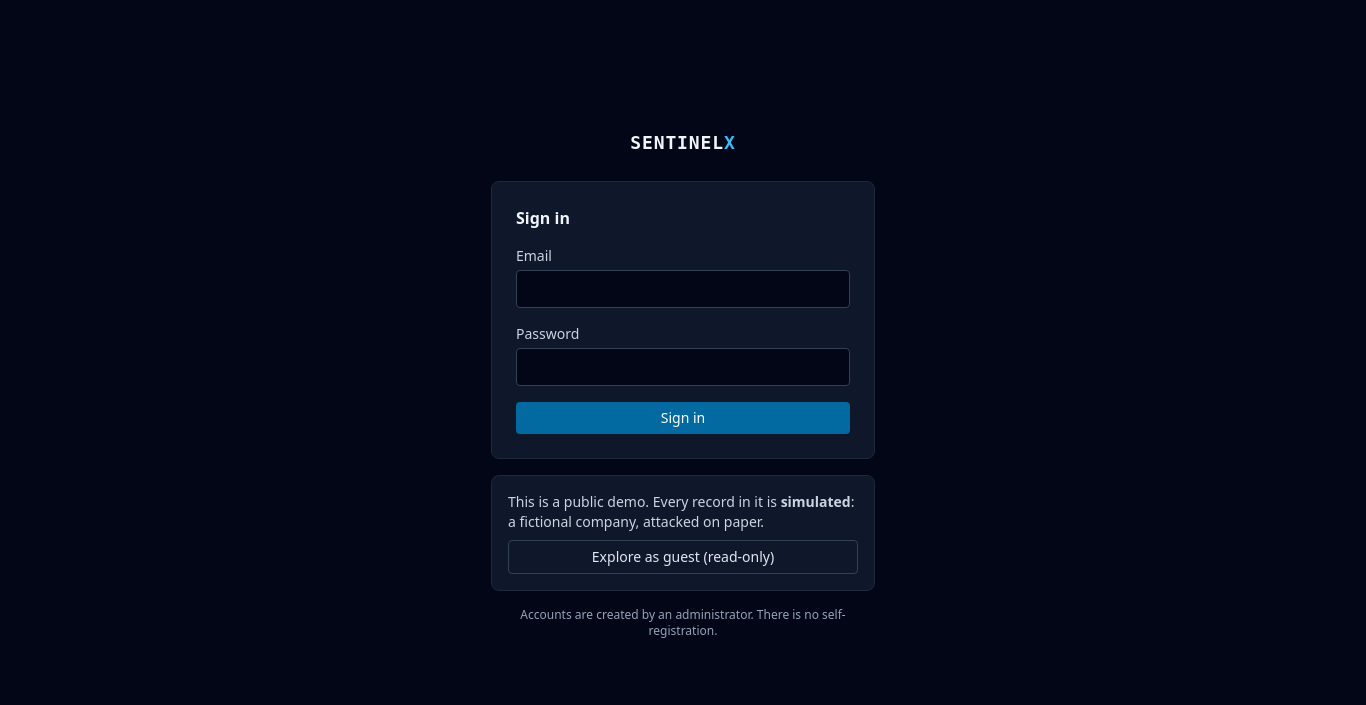
Test: A public demo's guest access › signs a visitor in as the read-only guest, and says so on every page
Click the button "Explore as guest (read-only)".
click(683, 557)  # box [508,540,858,574]
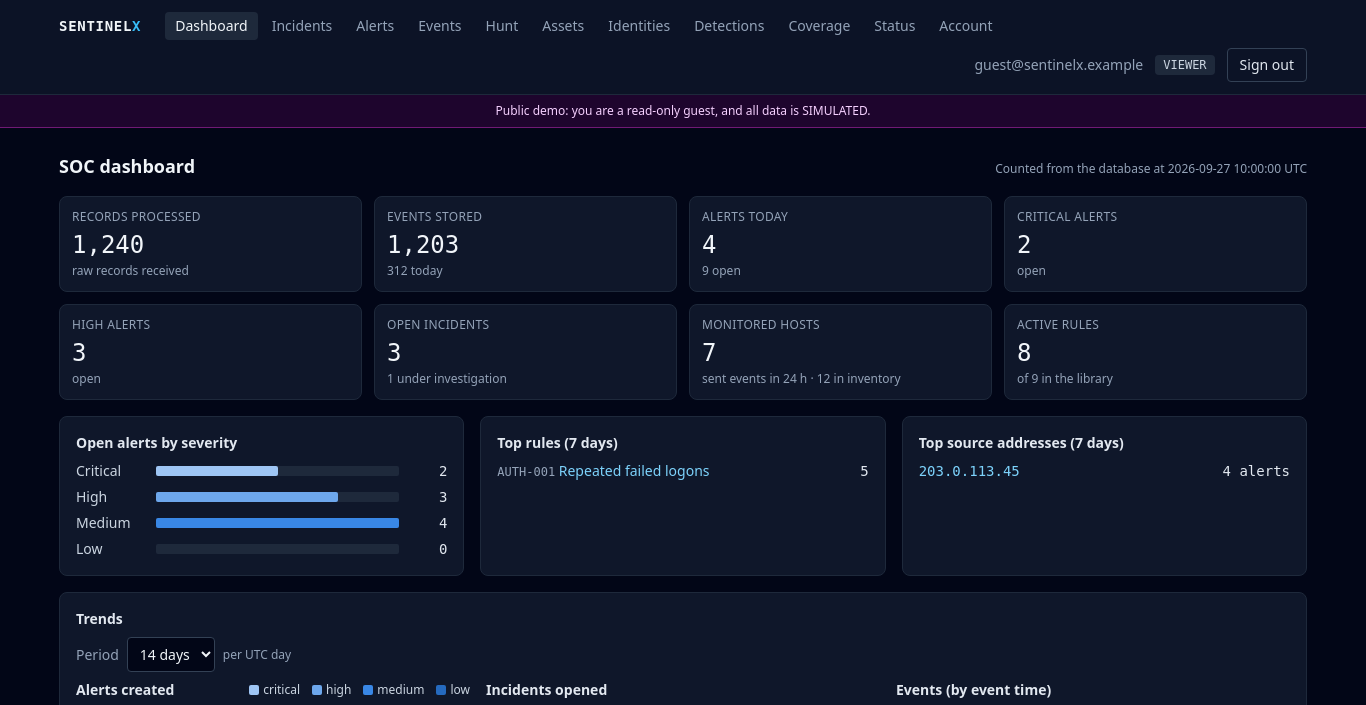
Expected: the heading "SOC dashboard" is shown, [59,152,195,180]
Expected: the text "read-only guest, and all data is SIMULATED" is shown, [496,102,870,119]
